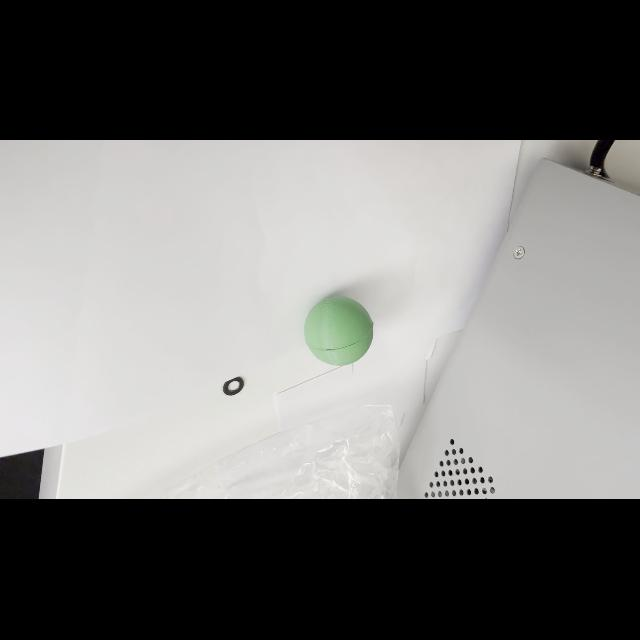objects: (302, 292, 376, 368)
